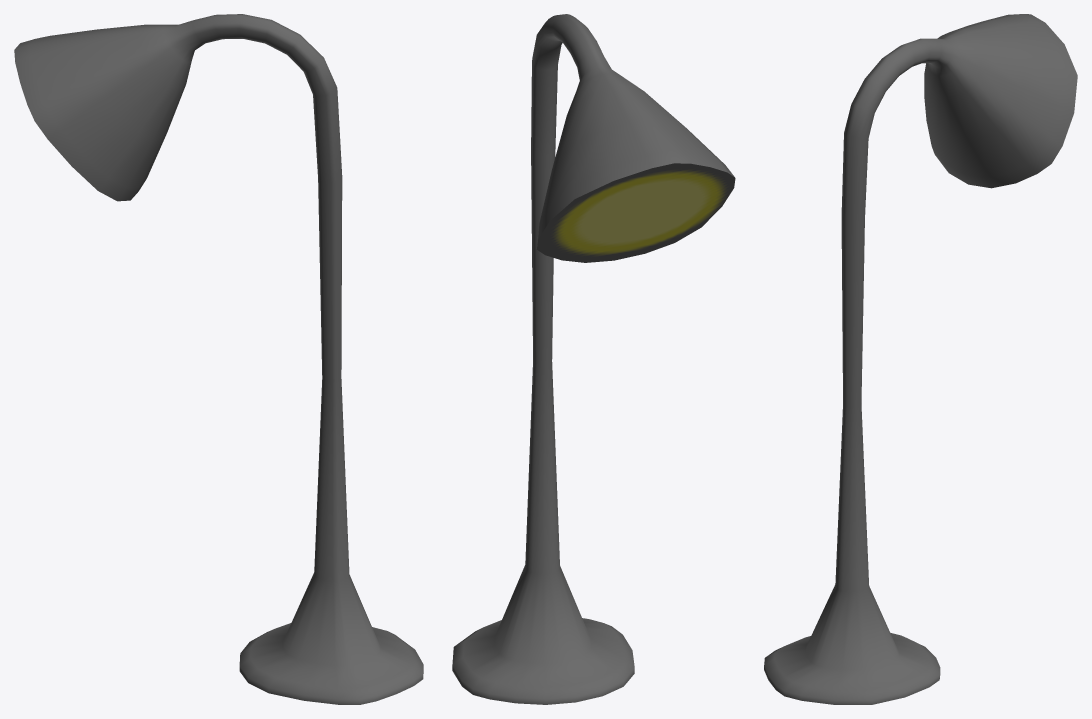
Rendered from study lamp.fbx.
3 renders of one model, left to right at view 1: azimuth 30°, elevation 25°; view 2: azimuth 150°, elevation 25°; view 3: azimuth 270°, elevation 25°, orthographic. The views are drawn at different scales.
Visible parts, largest first — view 1: polySurface548; view 2: polySurface548; view 3: polySurface548.
Boxes of the visible parts, x1=… form: polySurface548: x1=14, y1=14, x2=423, y2=704; polySurface548: x1=452, y1=14, x2=735, y2=704; polySurface548: x1=764, y1=14, x2=1077, y2=704.
Size of the model in its own units: 0.7237 by 1.42 by 0.6741.
Materials: 1 (1 with a texture image).
